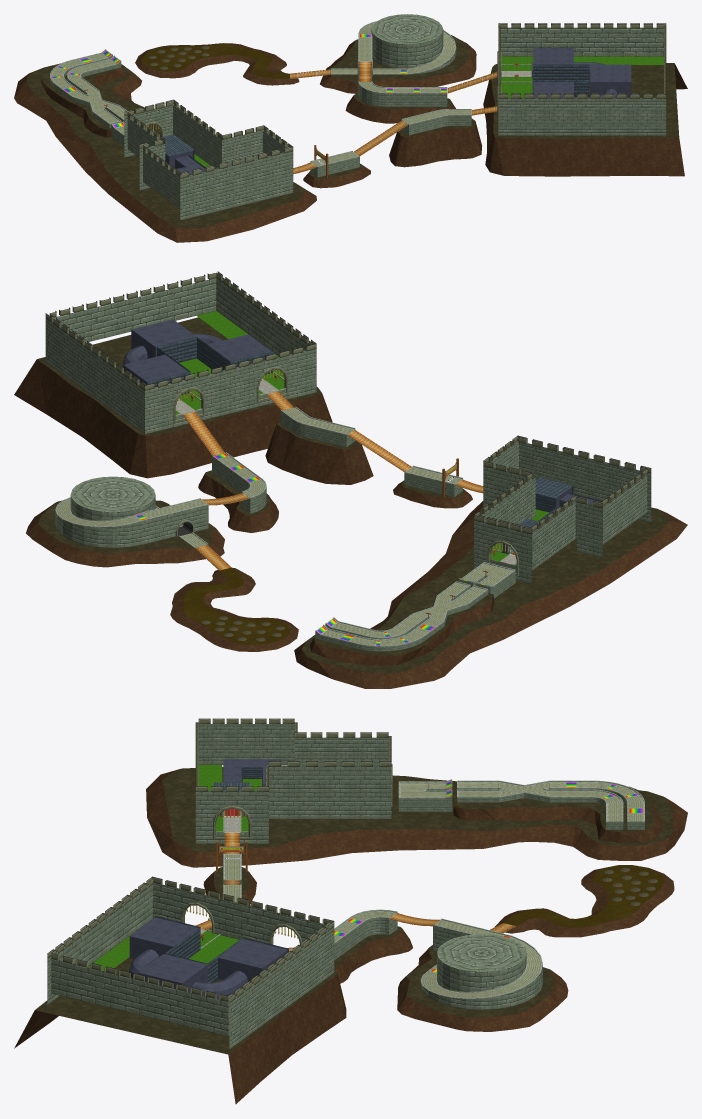
The picture shows the model from 3 angles, top to bottom: view 1: azimuth 30°, elevation 25°; view 2: azimuth 150°, elevation 25°; view 3: azimuth 270°, elevation 25°; orthographic projection. The views are drawn at different scales.
Parts seen in each view (by area): view 1: NBC_SKP__Muro_1, NBC_SKP__Roccia_Lava, NBC_SKP__Fuoristrada, NBC_SKP__Muro_3, NBC_SKP__Strada_1, NBC_SKP__Muro_Interno, NBC_SKP__Mix_1, NBC_SKP__Sterrato, NBC_SKP__Muro_2, NBC_SKP__Erba, NBC_SKP__Mix_4, NBC_SKP__Colle (+1 smaller); view 2: NBC_SKP__Muro_1, NBC_SKP__Roccia_Lava, NBC_SKP__Fuoristrada, NBC_SKP__Muro_3, NBC_SKP__Strada_1, NBC_SKP__Muro_Interno, NBC_SKP__Mix_1, NBC_SKP__Muro_2, NBC_SKP__Sterrato, NBC_SKP__Mix_4, NBC_SKP__Erba; view 3: NBC_SKP__Muro_1, NBC_SKP__Roccia_Lava, NBC_SKP__Fuoristrada, NBC_SKP__Muro_Interno, NBC_SKP__Muro_3, NBC_SKP__Strada_1, NBC_SKP__Mix_1, NBC_SKP__Sterrato, NBC_SKP__Erba, NBC_SKP__Muro_2, NBC_SKP__Mix_4, NBC_SKP__Colle.
Boxes of the visible parts, <box> form: NBC_SKP__Muro_1: <box>50,14,666,220</box>; NBC_SKP__Roccia_Lava: <box>14,36,687,242</box>; NBC_SKP__Fuoristrada: <box>26,35,679,228</box>; NBC_SKP__Muro_3: <box>124,23,666,178</box>; NBC_SKP__Strada_1: <box>51,23,470,165</box>; NBC_SKP__Muro_Interno: <box>169,48,631,173</box>; NBC_SKP__Mix_1: <box>50,21,532,166</box>; NBC_SKP__Sterrato: <box>142,44,289,78</box>; NBC_SKP__Muro_2: <box>162,64,589,175</box>; NBC_SKP__Erba: <box>194,56,663,166</box>; NBC_SKP__Mix_4: <box>290,61,497,174</box>; NBC_SKP__Colle: <box>148,46,209,69</box>; NBC_SKP__Muro_1: <box>45,278,651,651</box>; NBC_SKP__Roccia_Lava: <box>14,359,687,688</box>; NBC_SKP__Fuoristrada: <box>37,317,670,673</box>; NBC_SKP__Muro_3: <box>45,271,651,575</box>; NBC_SKP__Strada_1: <box>57,408,512,645</box>; NBC_SKP__Muro_Interno: <box>122,319,593,553</box>; NBC_SKP__Mix_1: <box>55,372,516,646</box>; NBC_SKP__Muro_2: <box>147,337,602,553</box>; NBC_SKP__Sterrato: <box>183,567,290,644</box>; NBC_SKP__Mix_4: <box>183,391,515,570</box>; NBC_SKP__Erba: <box>175,311,549,565</box>; NBC_SKP__Muro_1: <box>47,724,644,1049</box>; NBC_SKP__Roccia_Lava: <box>14,769,687,1104</box>; NBC_SKP__Fuoristrada: <box>35,767,673,1054</box>; NBC_SKP__Muro_Interno: <box>129,759,287,999</box>; NBC_SKP__Muro_3: <box>47,718,392,1002</box>; NBC_SKP__Strada_1: <box>225,782,642,997</box>; NBC_SKP__Mix_1: <box>200,779,644,999</box>; NBC_SKP__Sterrato: <box>504,865,664,927</box>; NBC_SKP__Erba: <box>88,765,261,971</box>; NBC_SKP__Muro_2: <box>154,767,288,982</box>; NBC_SKP__Mix_4: <box>195,816,515,950</box>; NBC_SKP__Colle: <box>602,867,657,905</box>.
Size of the model in its own units: 154533 by 19878 by 132057.
Materials: 28 (28 with a texture image).
